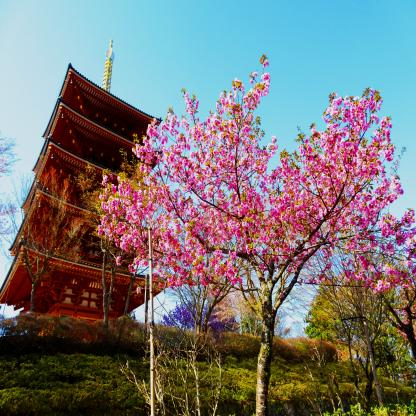YaeSakura: (94, 52, 416, 300), (0, 131, 20, 268)
